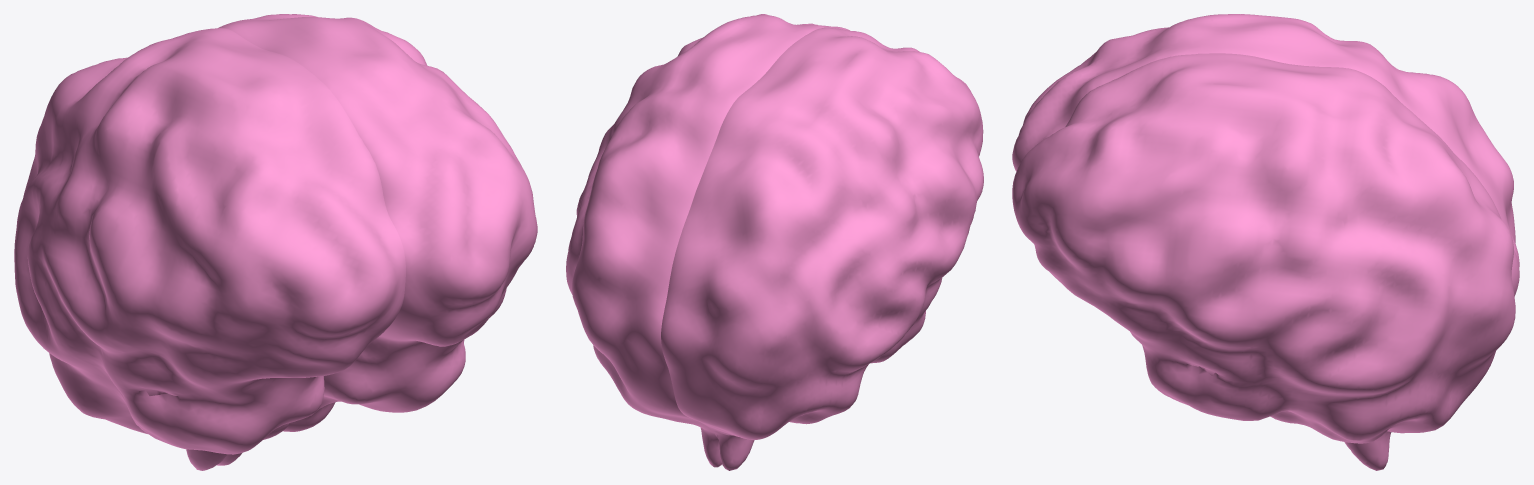
Rendered from Brain.glb.
3 renders of one model, left to right at view 1: azimuth 30°, elevation 25°; view 2: azimuth 150°, elevation 25°; view 3: azimuth 270°, elevation 25°, orthographic. The views are drawn at different scales.
Parts seen in each view (by area): view 1: Sphere.001; view 2: Sphere.001; view 3: Sphere.001.
Part boxes in pixels (<box>): Sphere.001: <box>14,14,537,470</box>; Sphere.001: <box>566,14,983,470</box>; Sphere.001: <box>1012,14,1519,470</box>.
Bounding box in the file's own units: 1.93 × 2.08 × 2.29.
